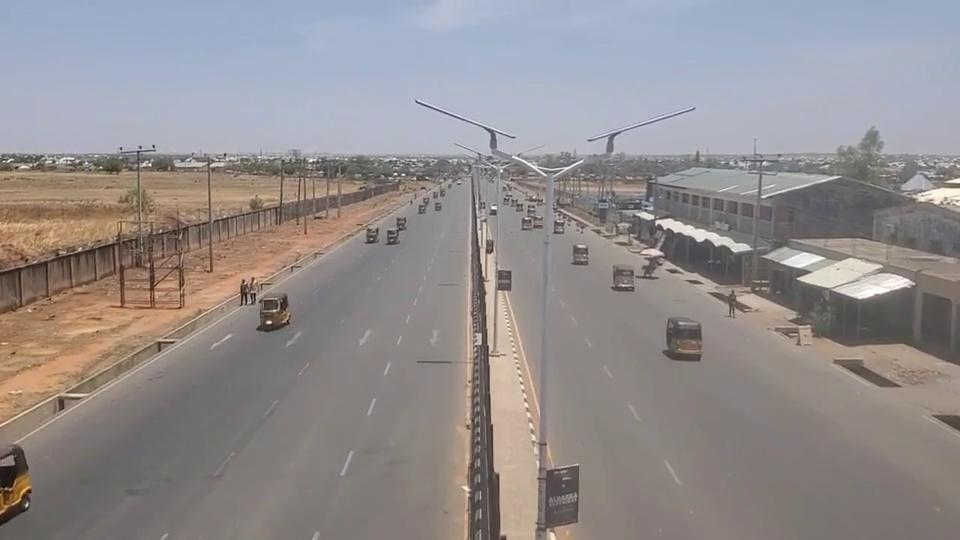keke: (0, 442, 32, 525), (665, 316, 702, 358), (258, 292, 291, 330)
